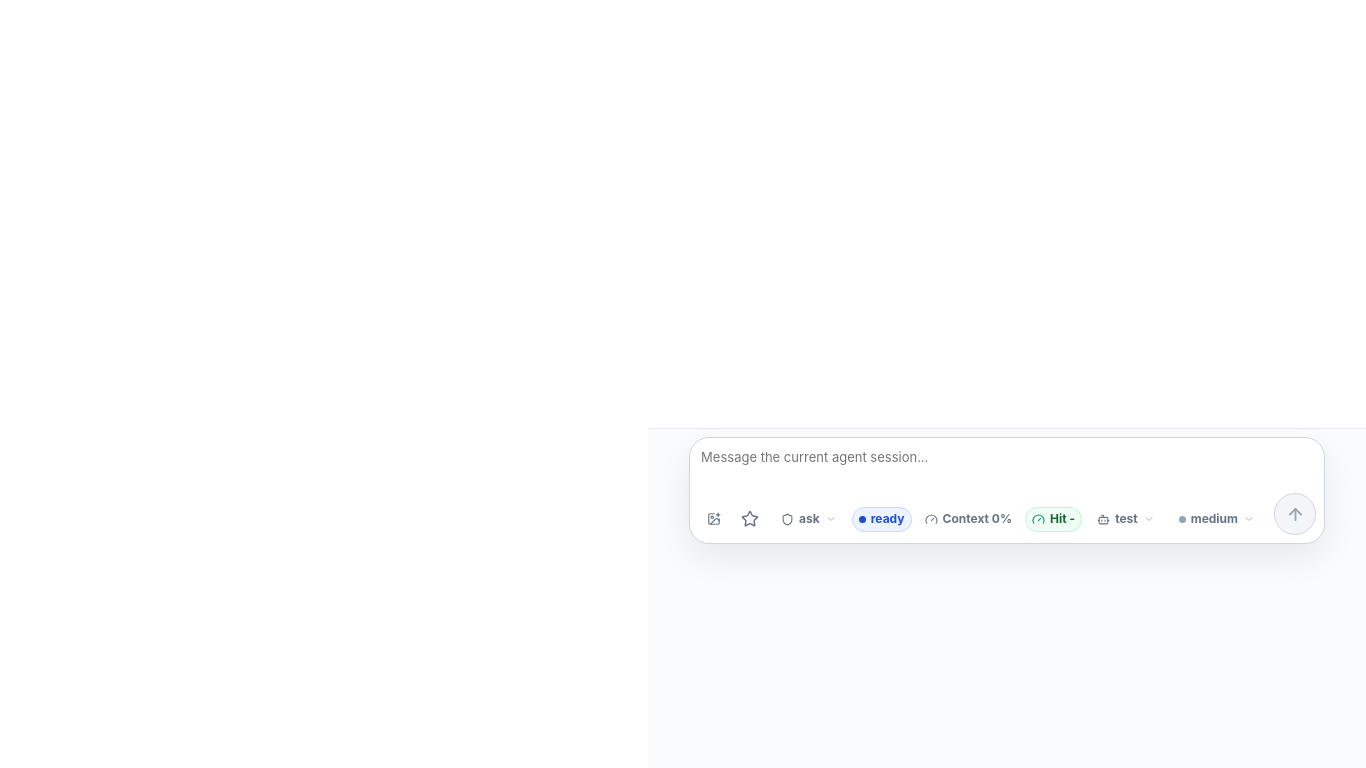
legacy Composer common prompts › fills or appends without changing existing whitespace or sending ()
This screenshot has width=1366, height=768.
Click the button named "Common prompts".
click(750, 519)  # box [734,503,766,535]
Wait 200 ms
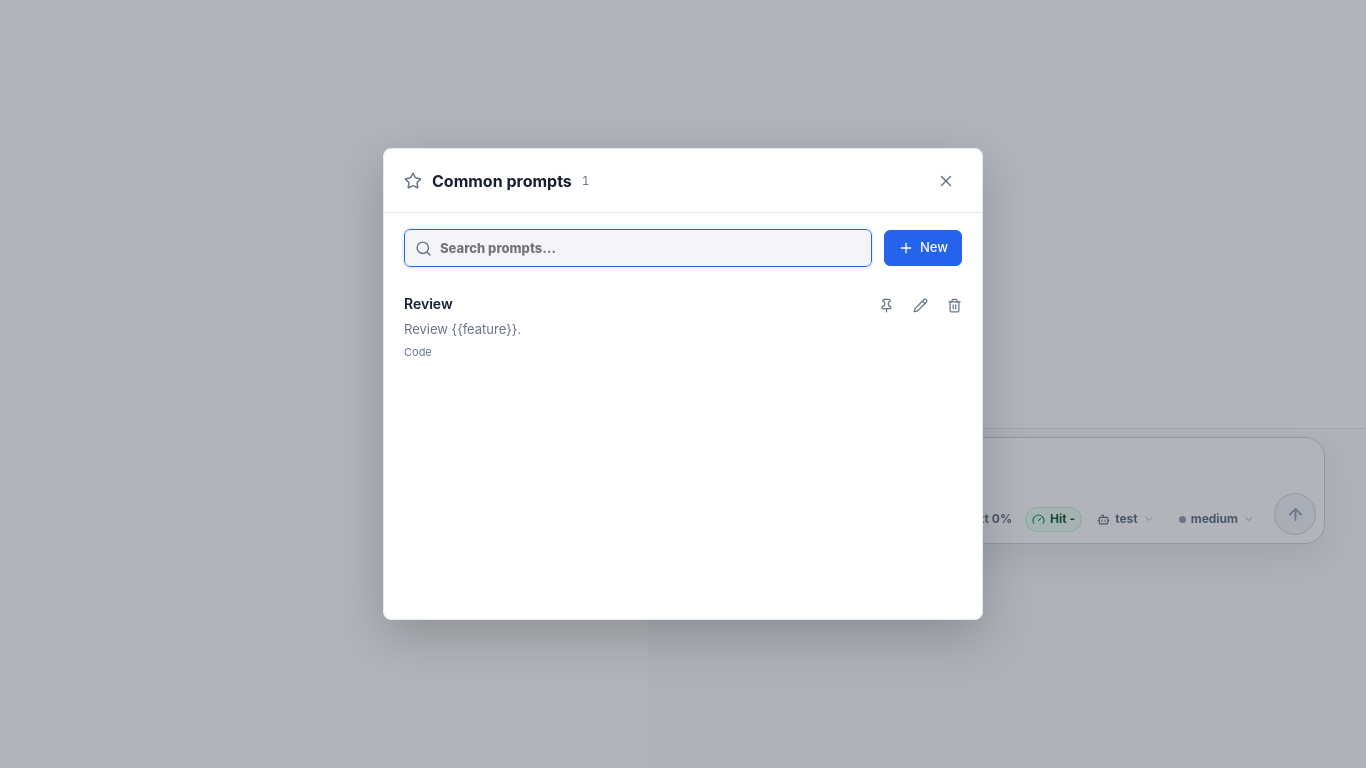
Now the dialog is shown, box [383,148,983,620]
Click the button with aria-label "Use Review".
click(428, 304)  # box [396,283,862,371]
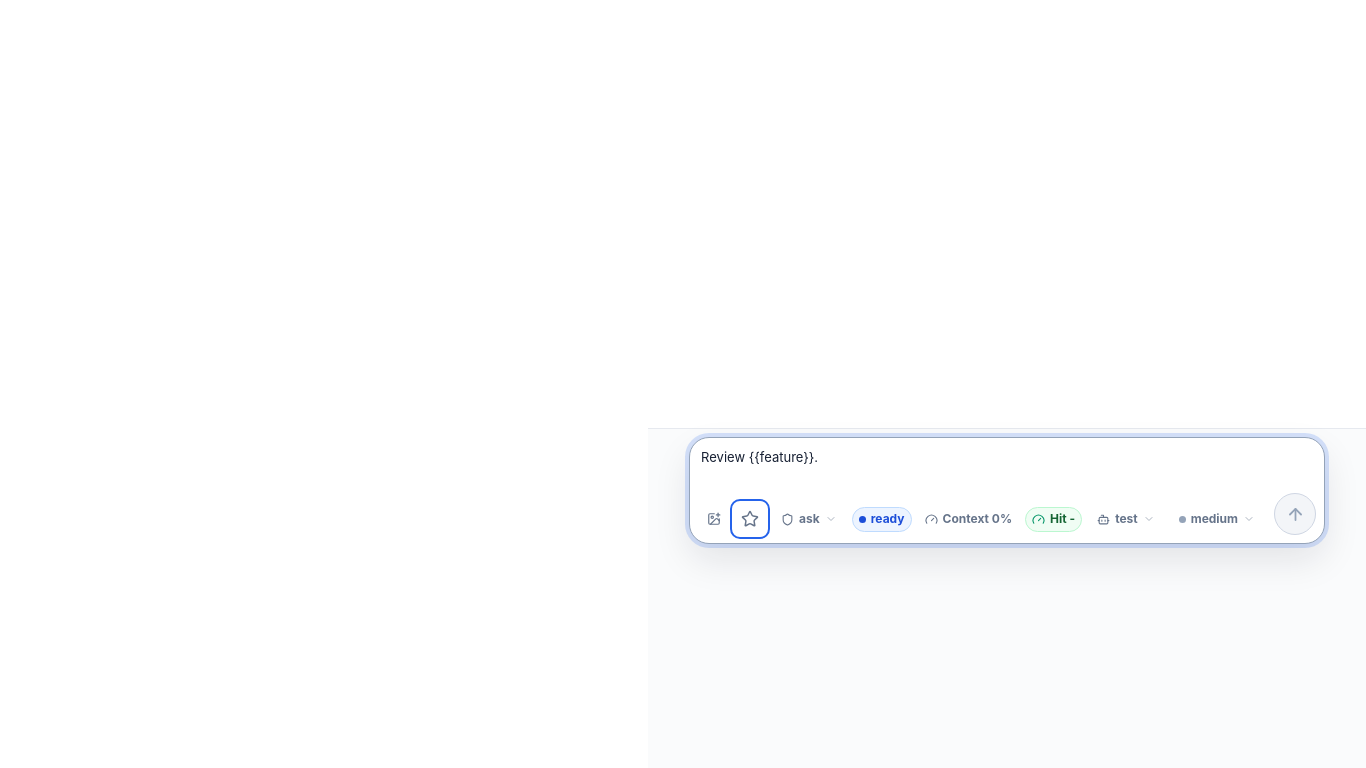
Now the text box named "Message composer" holds "Review {{feature}}.", box [698,446,1316,487]
